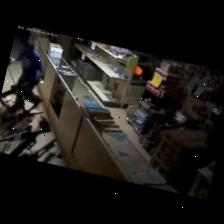person: (8, 42, 44, 113)
